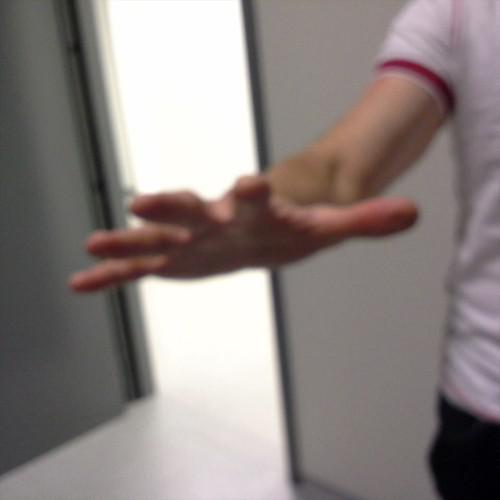paper: (64, 168, 424, 296)
